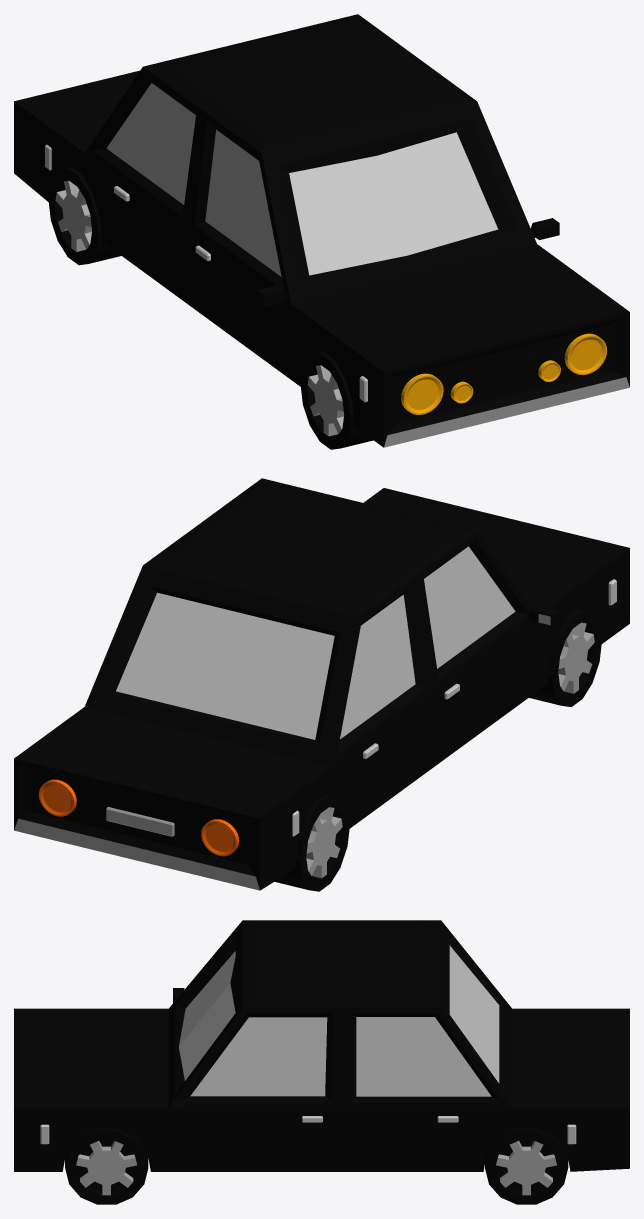
File: br_wheel_3.glb
3 renders of one model, top to bottom at view 1: azimuth 30°, elevation 25°; view 2: azimuth 150°, elevation 25°; view 3: azimuth 270°, elevation 25°, orthographic. The views are drawn at different scales.
Visible parts, largest first — view 1: BR WHEEL.003_BODY.003_0; view 2: BR WHEEL.003_BODY.003_0; view 3: BR WHEEL.003_BODY.003_0.
Part boxes in pixels (left/top/right/bottom): BR WHEEL.003_BODY.003_0: left=14, top=14, right=629, bottom=449; BR WHEEL.003_BODY.003_0: left=14, top=478, right=629, bottom=891; BR WHEEL.003_BODY.003_0: left=14, top=920, right=629, bottom=1204.
Bounding box in the file's own units: 0.3206 × 0.2399 × 0.6944.
Materials: 1 (1 with a texture image).
